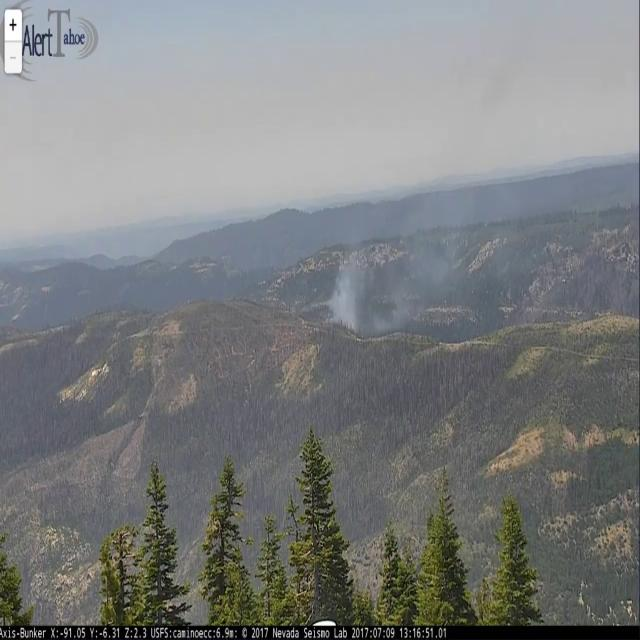smoke: (323, 159, 492, 341)
